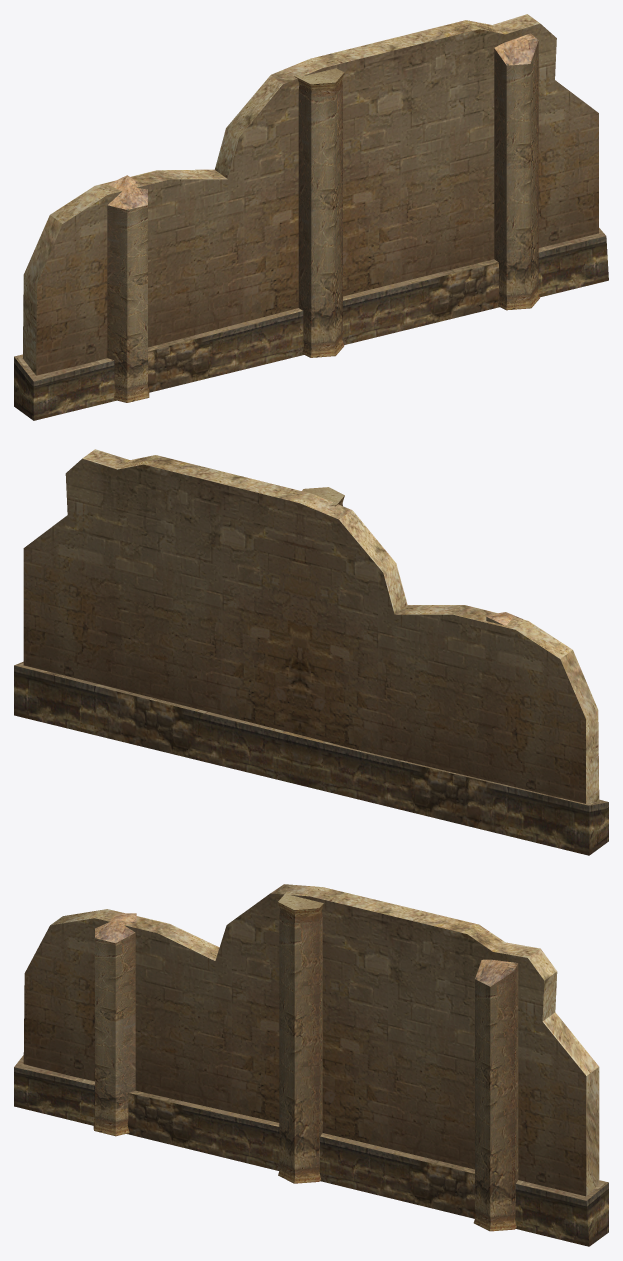
File: yw_huxiaoshamo_qiang01.FBX
3 views of the same model, one above another, from view 1: azimuth 30°, elevation 25°; view 2: azimuth 150°, elevation 25°; view 3: azimuth 330°, elevation 25° (orthographic).
Visible parts, largest first — view 1: yw_huxiaoshamo_qiang01; view 2: yw_huxiaoshamo_qiang01; view 3: yw_huxiaoshamo_qiang01.
Boxes of the visible parts, <box> form: yw_huxiaoshamo_qiang01: <box>14,14,608,420</box>; yw_huxiaoshamo_qiang01: <box>14,449,608,855</box>; yw_huxiaoshamo_qiang01: <box>14,884,608,1246</box>.
Bounding box in the file's own units: 1315 × 610 × 121.
